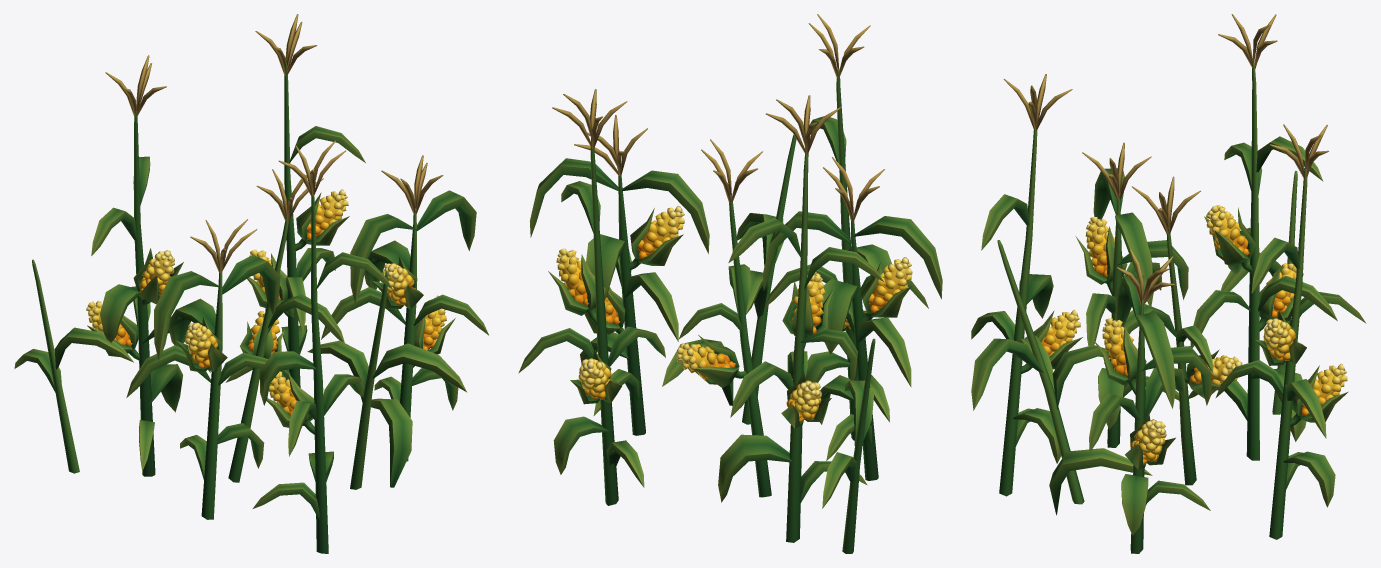
Rendered from SM_Plant_Corn_Lv4.fbx.
3 views of the same model, side by side, from view 1: azimuth 30°, elevation 25°; view 2: azimuth 150°, elevation 25°; view 3: azimuth 270°, elevation 25° (orthographic). The views are drawn at different scales.
Parts seen in each view (by area): view 1: SM_Plant_Corn_Lv4; view 2: SM_Plant_Corn_Lv4; view 3: SM_Plant_Corn_Lv4.
Part boxes in pixels (<box>): SM_Plant_Corn_Lv4: <box>14,14,488,553</box>; SM_Plant_Corn_Lv4: <box>518,14,942,553</box>; SM_Plant_Corn_Lv4: <box>971,14,1366,553</box>.
Bounding box in the file's own units: 105 × 110 × 88.88.
